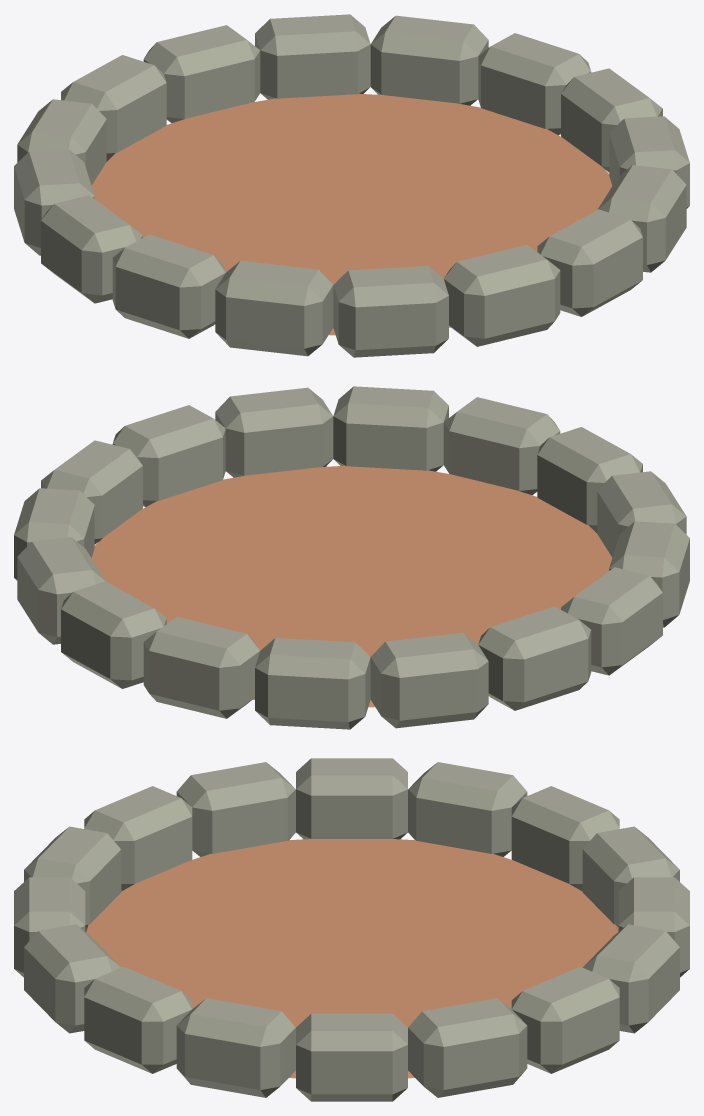
The picture shows the model from 3 angles, top to bottom: view 1: azimuth 30°, elevation 25°; view 2: azimuth 150°, elevation 25°; view 3: azimuth 270°, elevation 25°; orthographic projection.
Parts seen in each view (by area): view 1: BA-0079 batched; view 2: BA-0079 batched; view 3: BA-0079 batched.
Part boxes in pixels (x1,y1,x2,y2): BA-0079 batched: (14, 14, 689, 357); BA-0079 batched: (14, 386, 689, 729); BA-0079 batched: (14, 758, 689, 1101).
Bounding box in the file's own units: 1.99 × 0.23 × 1.99.
